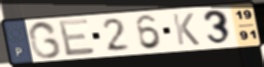2: (101, 17, 133, 54)
3: (202, 8, 235, 47)
6: (135, 13, 163, 51)
E: (56, 17, 97, 58)
G: (26, 19, 63, 60)
K: (170, 12, 202, 47)
